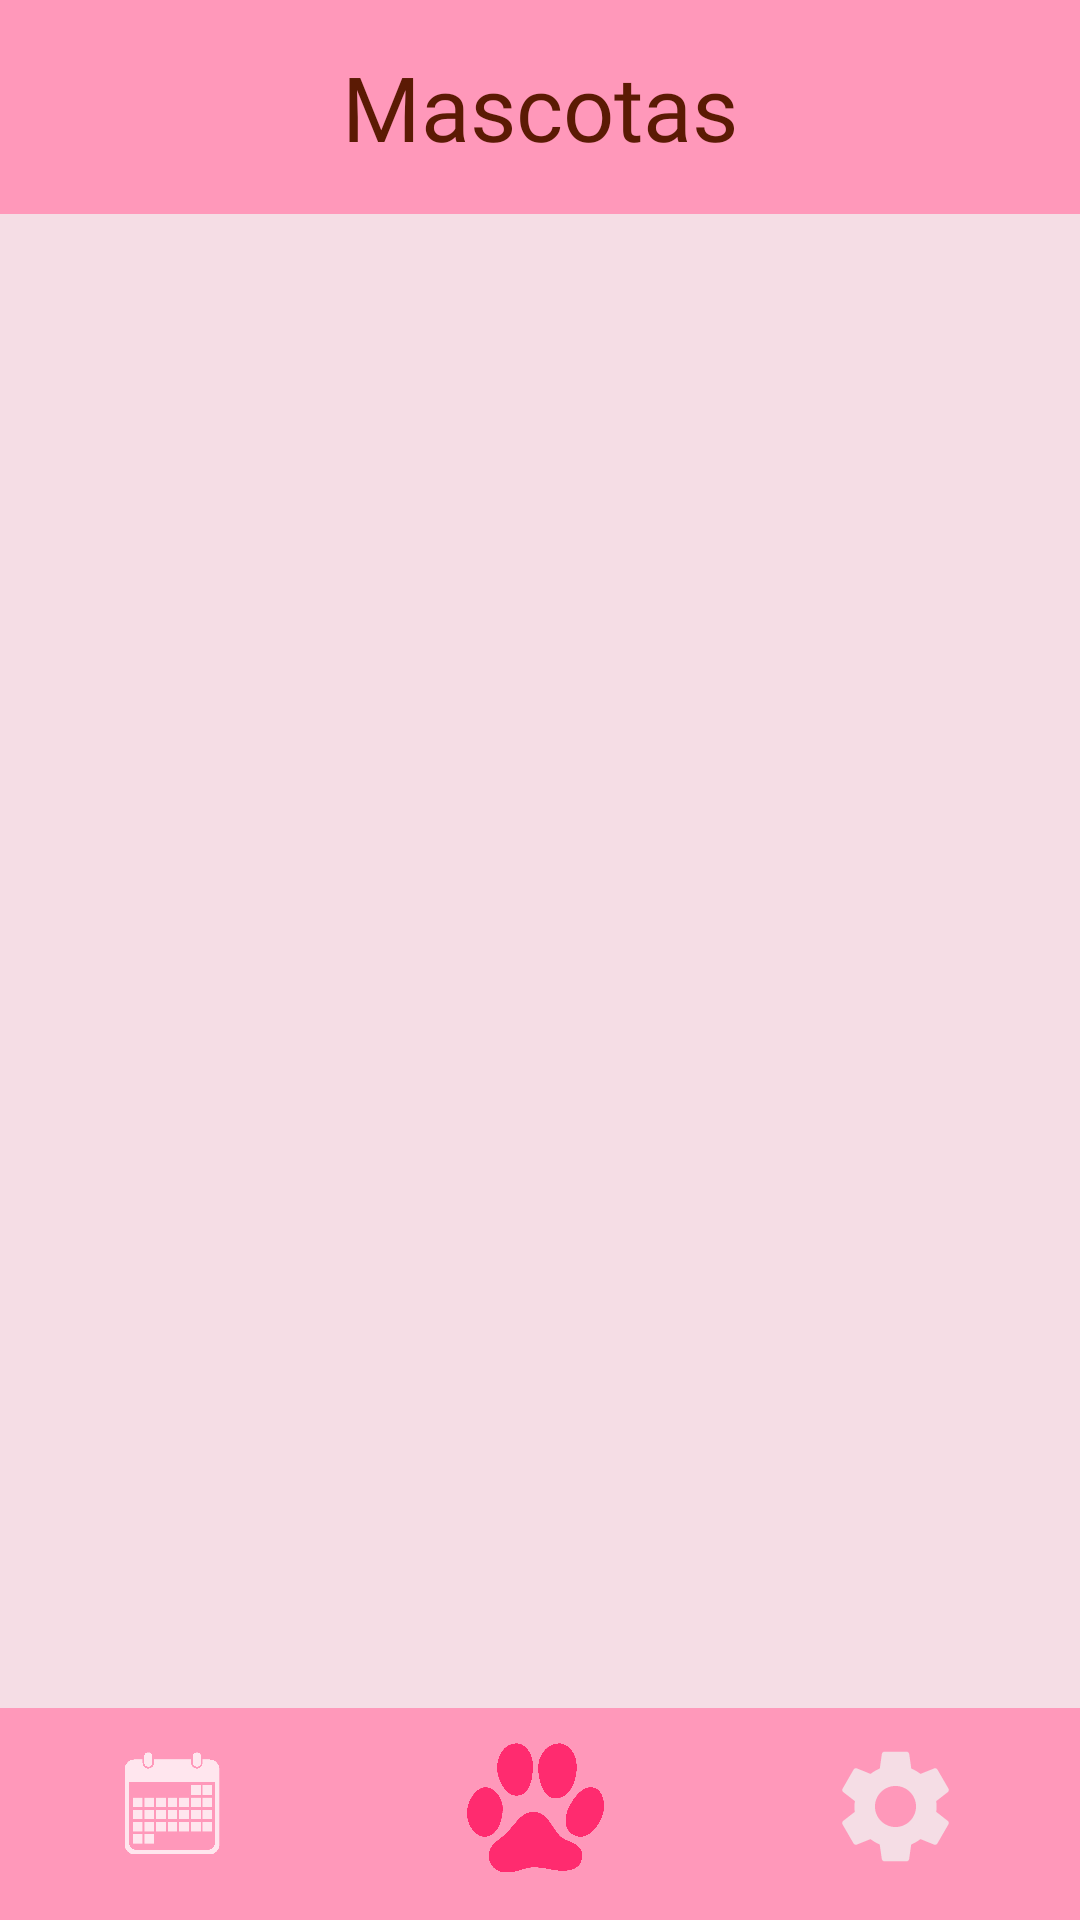

Locate icon controls on the screen. Image size 1080*1920, boxes as (x1, y1, x2, y2).
calendar: (125, 1752, 219, 1854)
huella: (467, 1743, 604, 1872)
settings: (842, 1752, 949, 1861)
